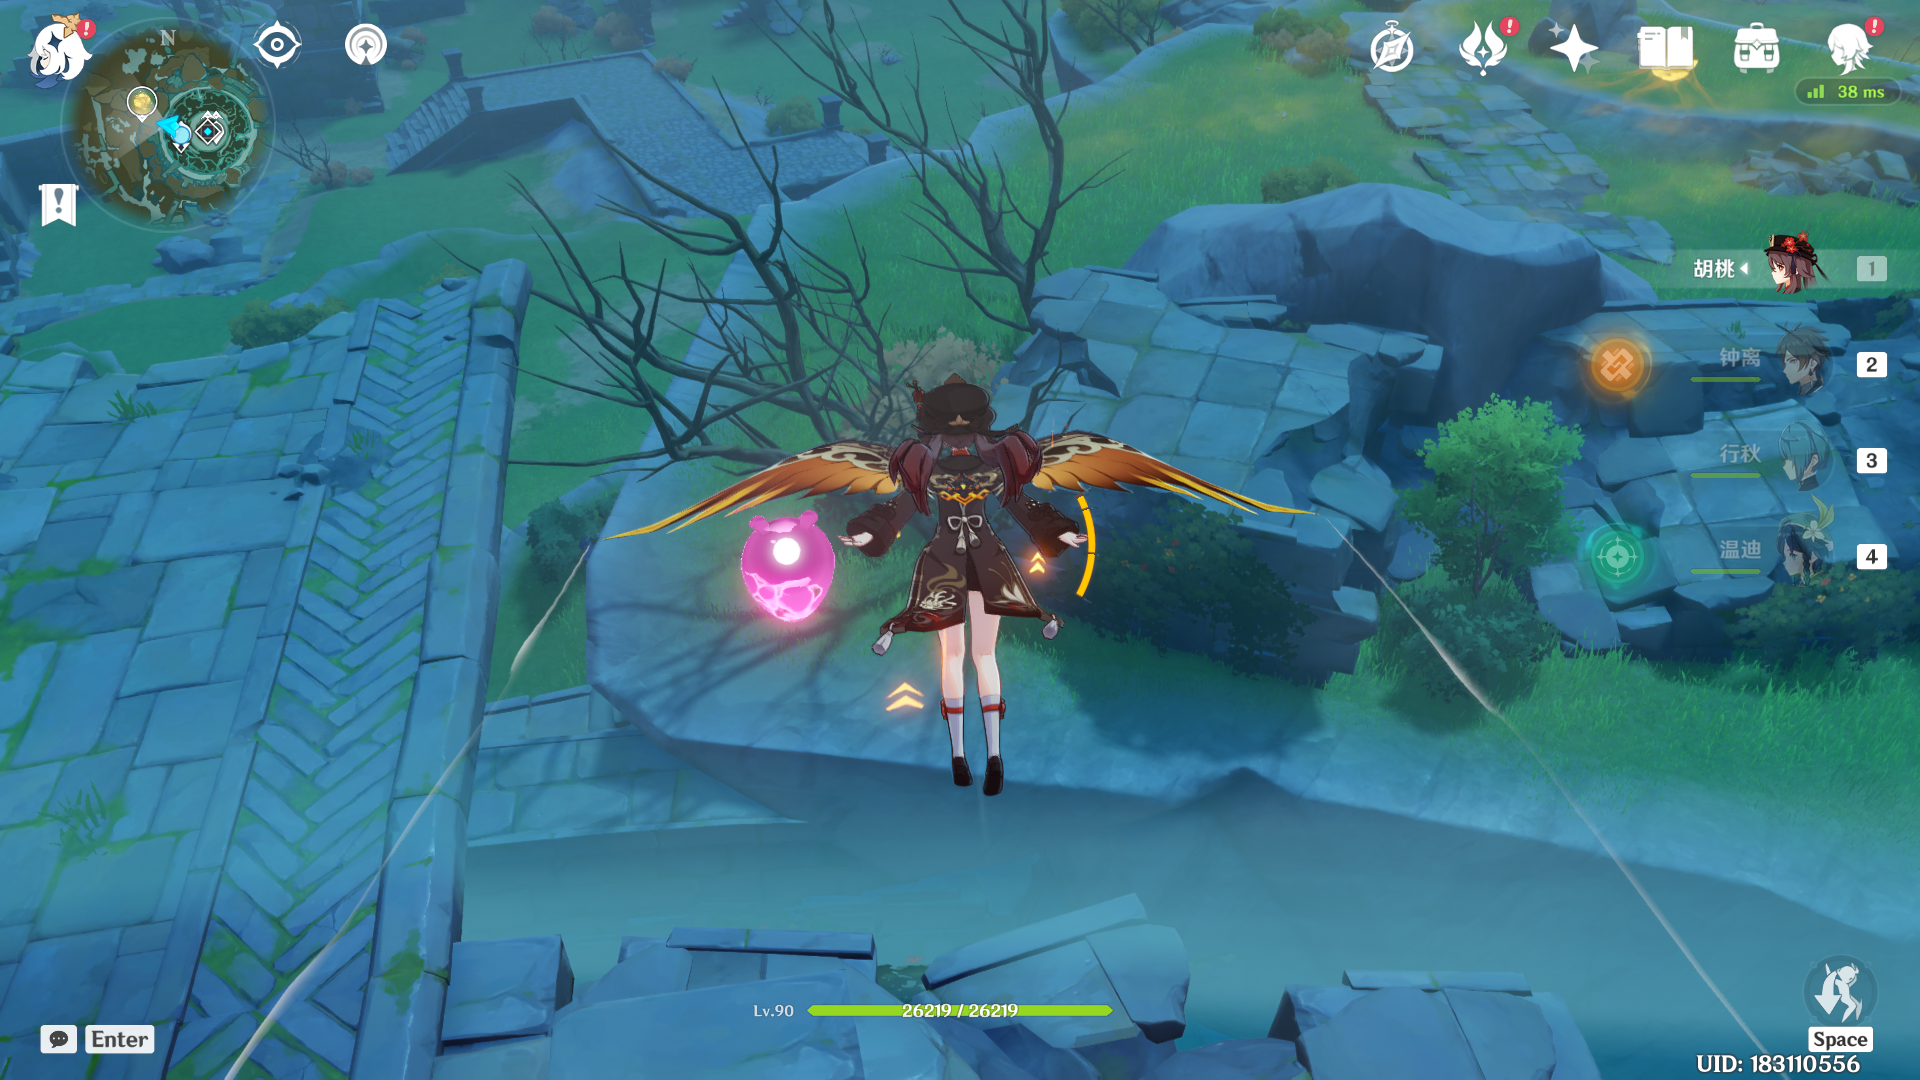character: (807, 373, 1135, 831)
